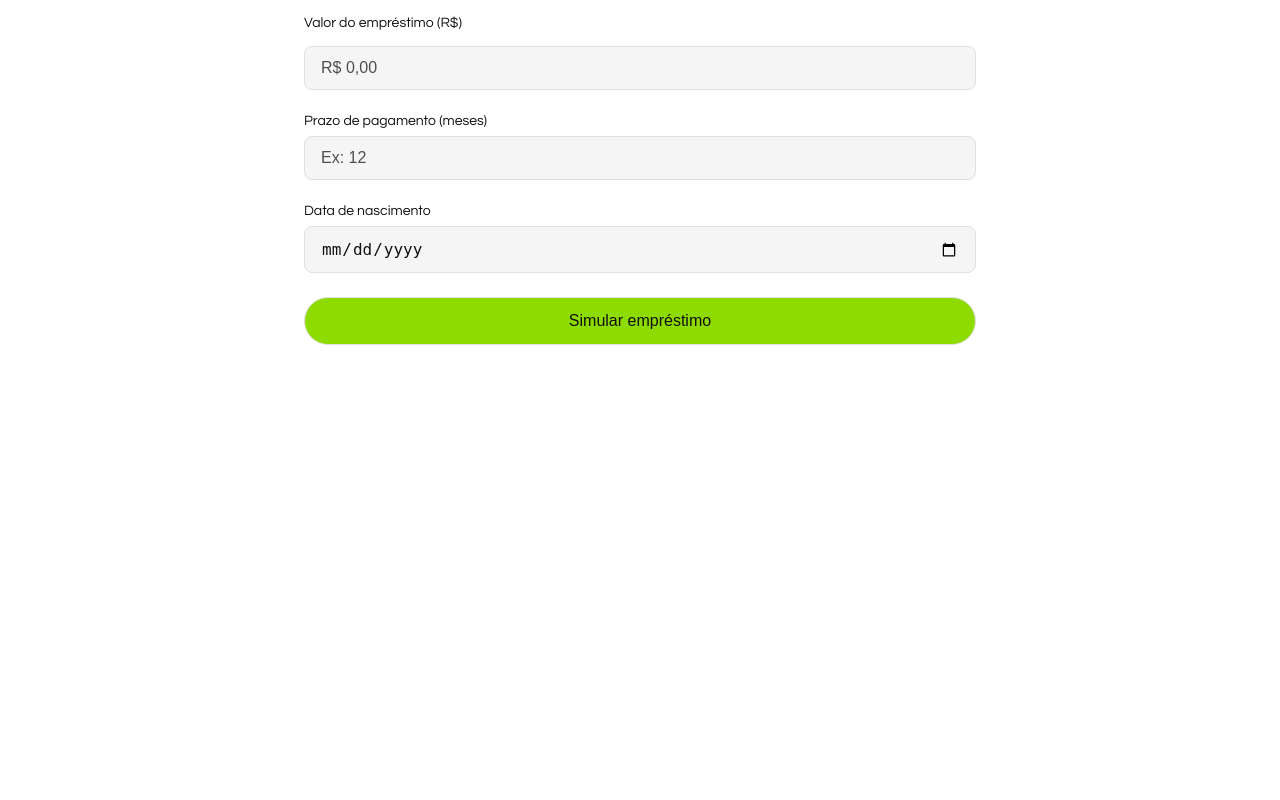
CreditSimulation › realiza simulação e exibe resultado ao submeter dados válidos
This screenshot has width=1280, height=800.
Type "10000" into the field with placeholder "R$ 0,00" at (640, 68), box [304,46,976,90]
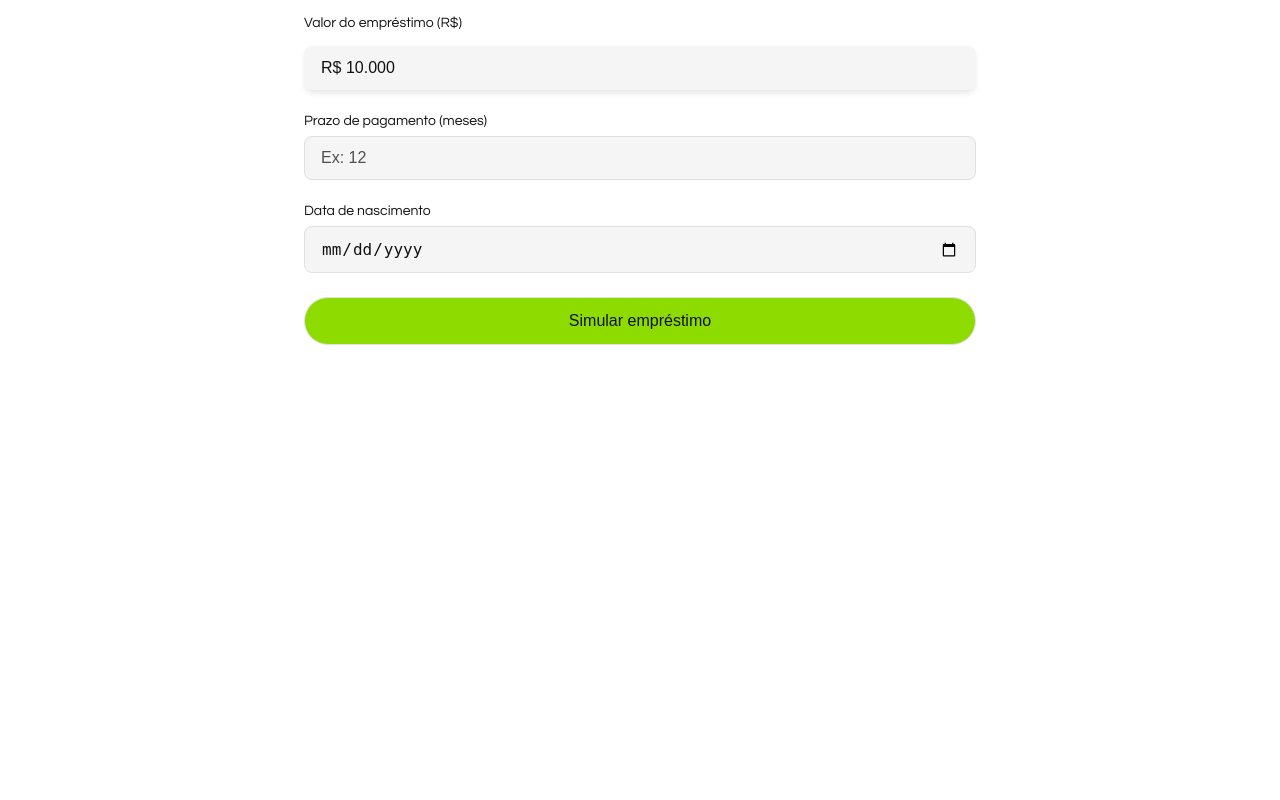
Type "12" into the number field with placeholder "Ex: 12" at (640, 158), box [304,136,976,180]
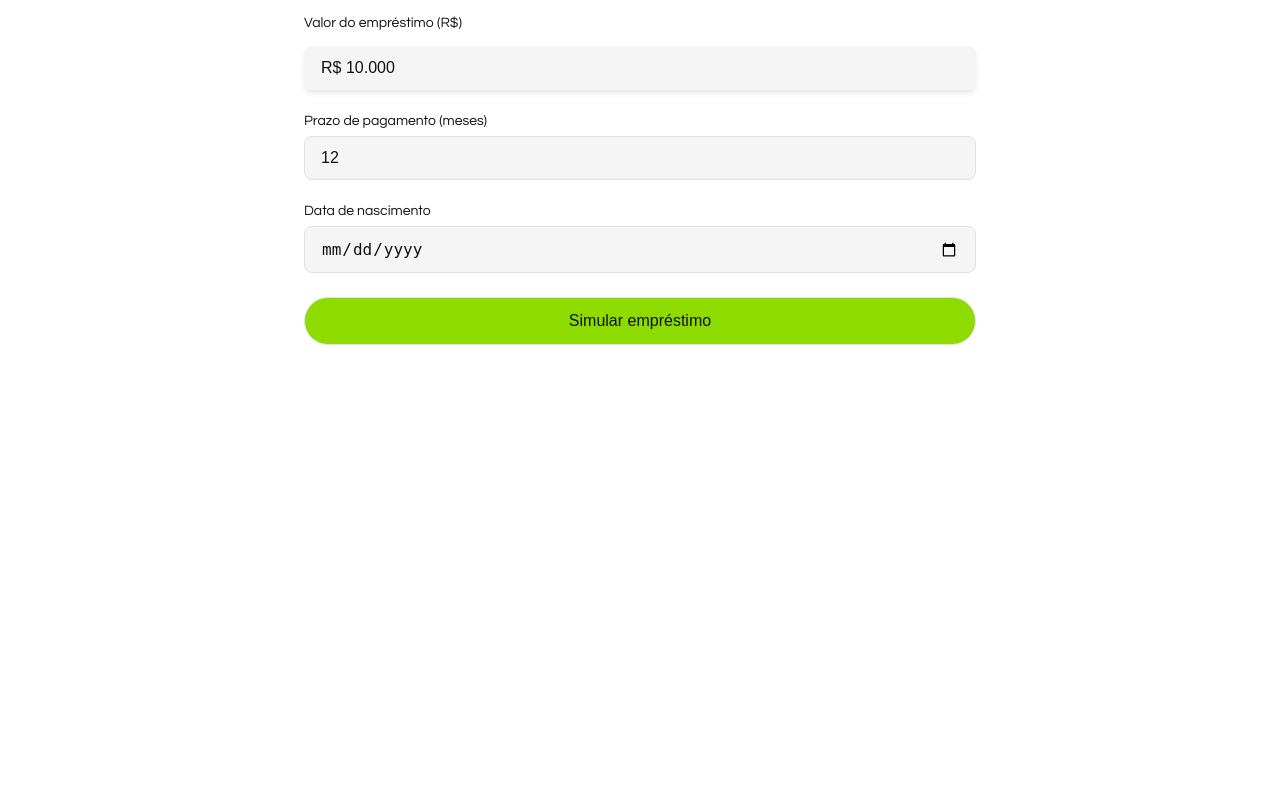
Type "1990-01-01" into the date field labelled "Data de nascimento" at (640, 250), box [304,226,976,273]
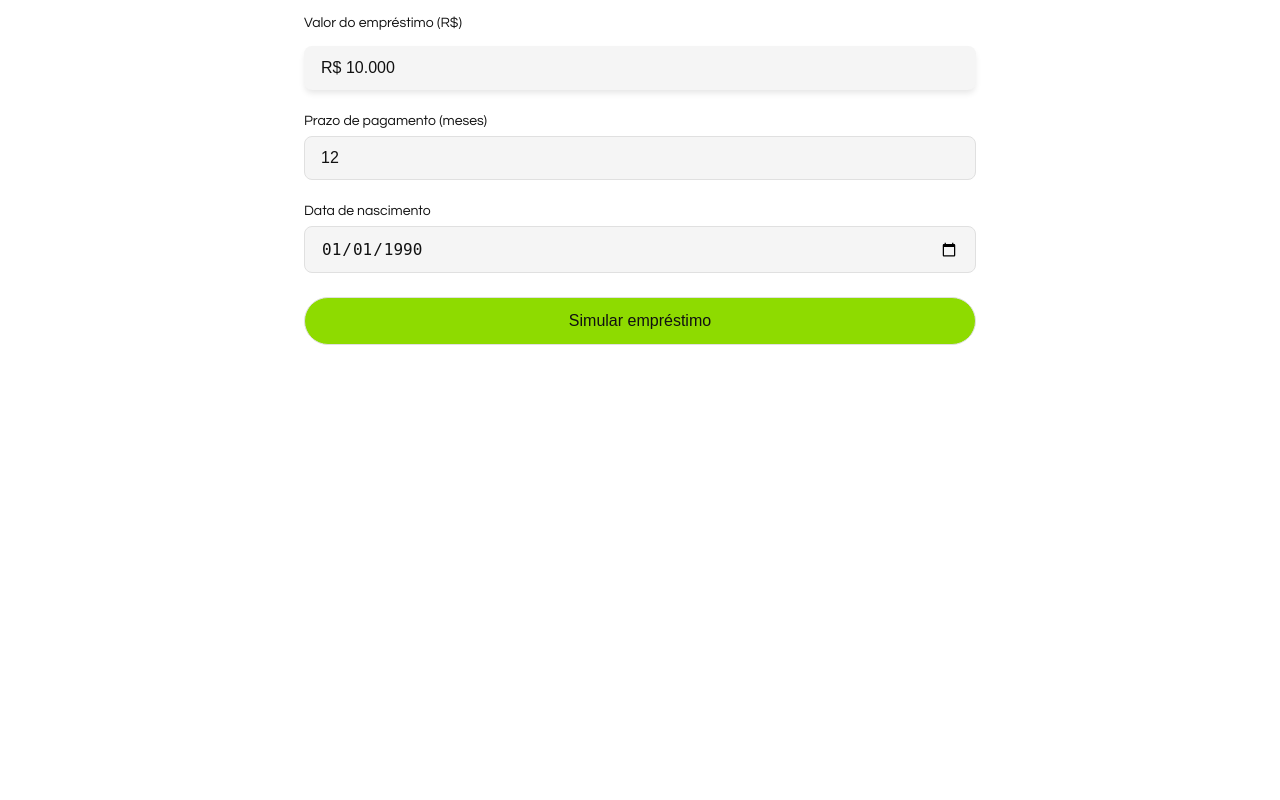
Click the button "Simular empréstimo" at (640, 321), box [304,297,976,345]
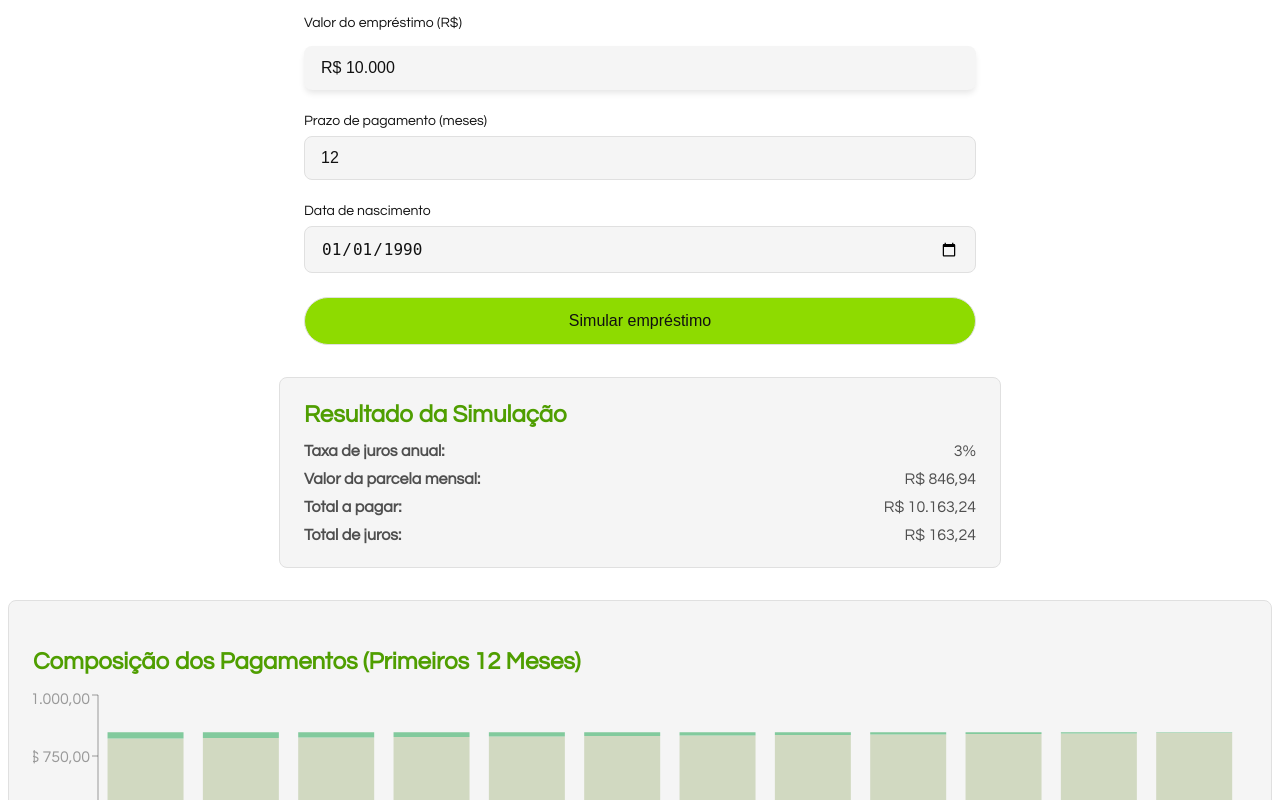
expect the text "Taxa de juros anual:" is shown: met, box [304,443,445,459]
expect the text "Valor da parcela mensal:" is shown: met, box [304,471,480,487]
expect the text "Total a pagar:" is shown: met, box [304,499,402,515]
